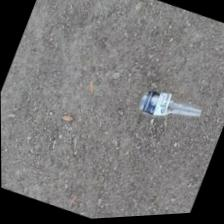glass: (139, 90, 200, 116)
